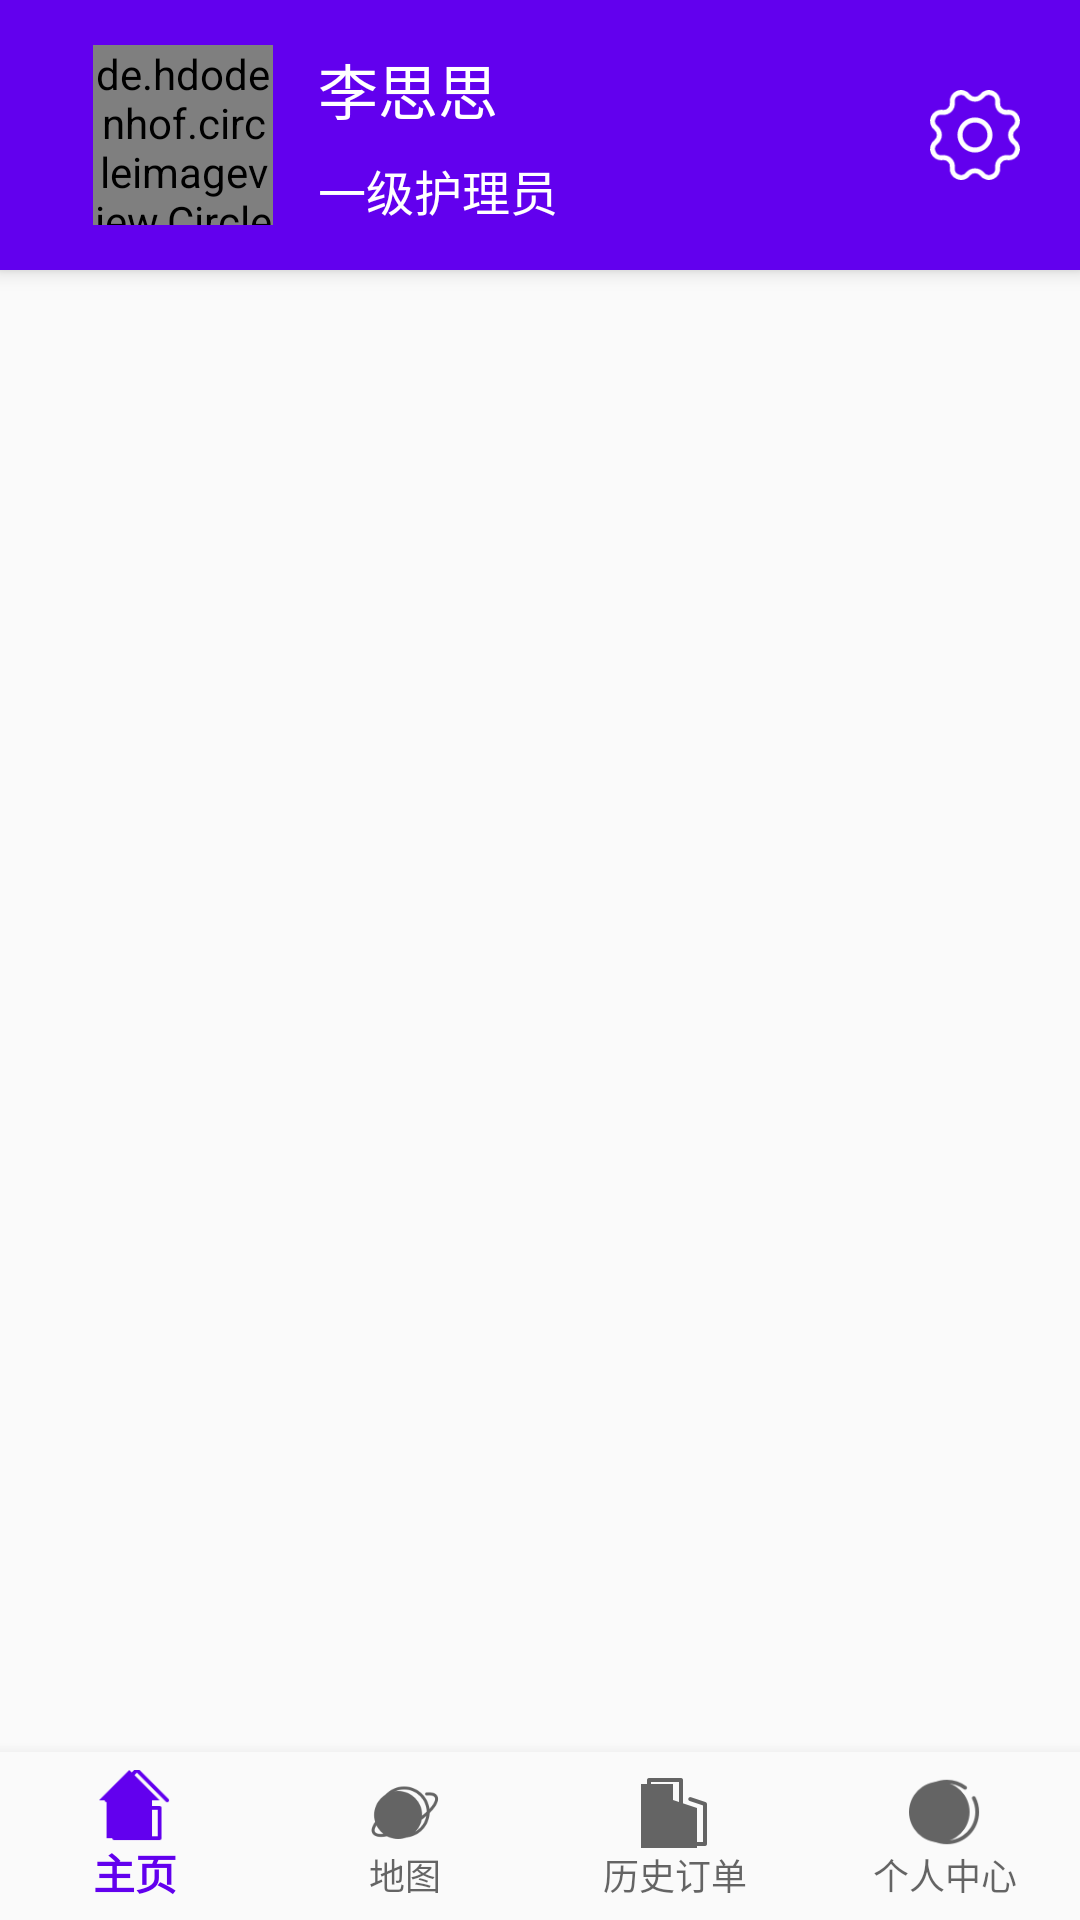

Where to tap for icons on this 1080x1920 app screen, as [x,y]:
setting: [975,135]
